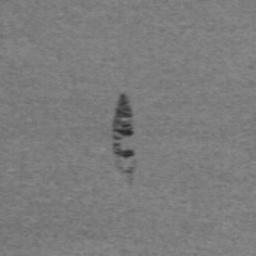Secondary rust skin: (112, 94, 135, 159), (125, 167, 133, 174)
